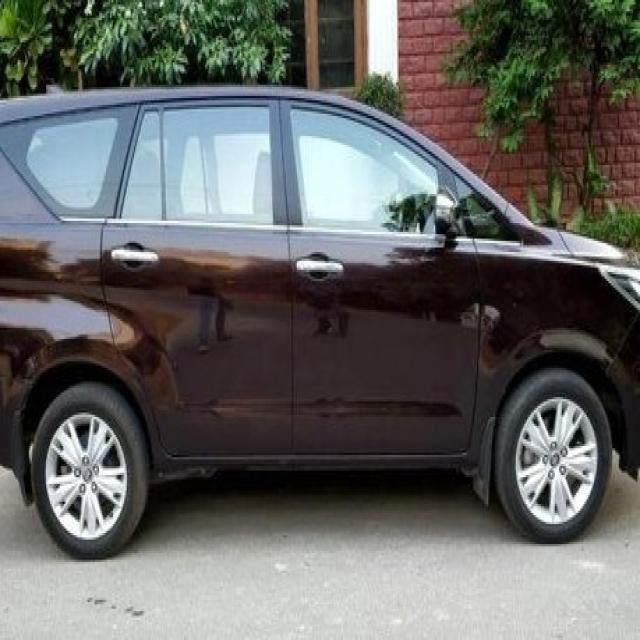light_vehicle: (1, 84, 639, 558)
